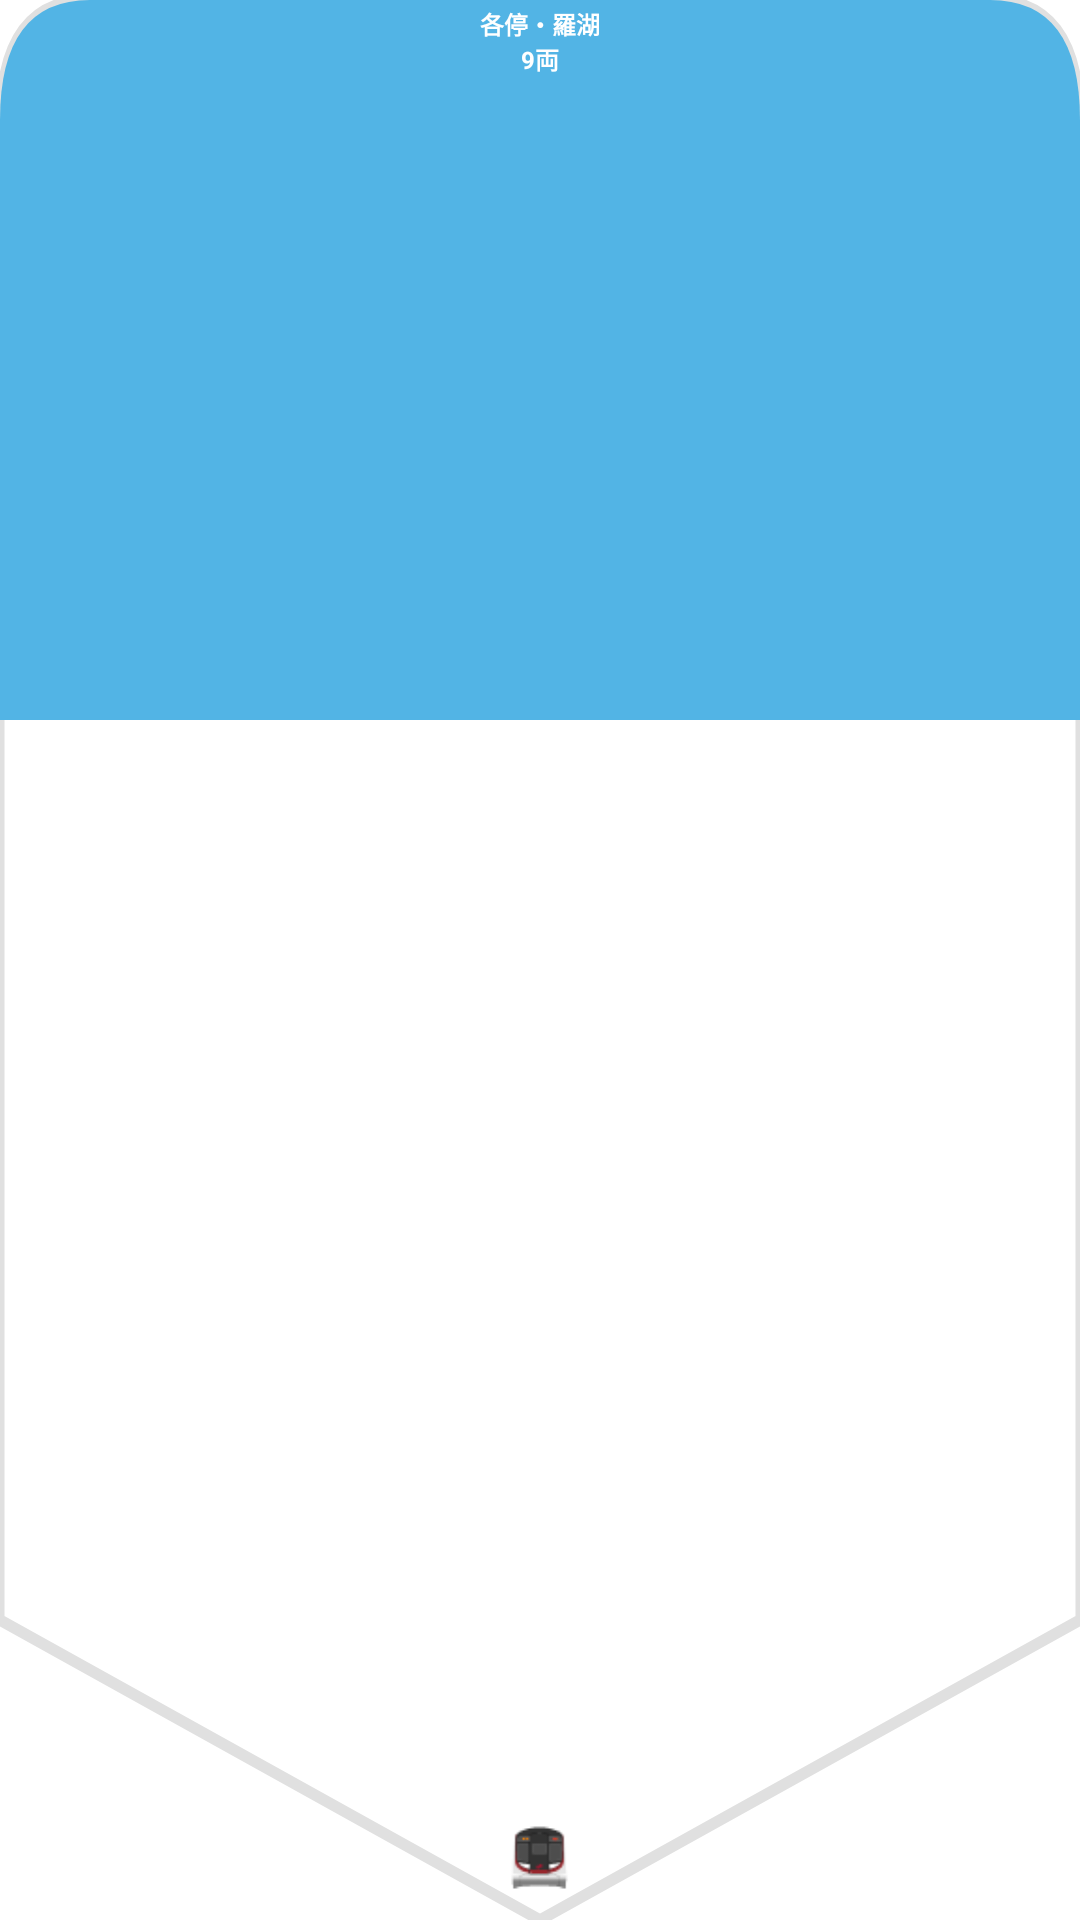

Icons on this 1080px x 1920px Android screen, each with the point to tap as (x=x, y=y):
train: (x=539, y=1857)
